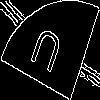U: (25, 25, 65, 83)
